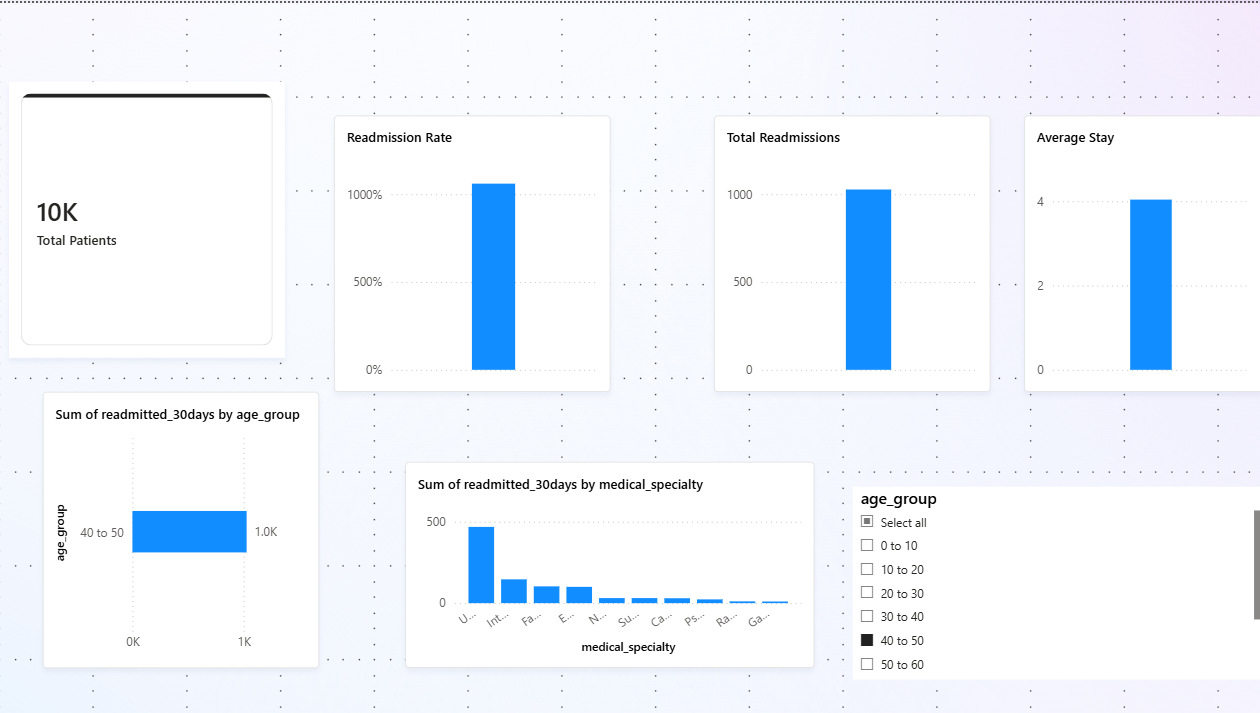

The page's visual inventory and layout, read from the dashboard file:
{"tool":"powerbi","page":{"name":"Page 1","canvas":[1280,720],"ordinal":0},"visuals":[{"type":"cardVisual","fields":{"Data":["patients_clean.Total Patients"]},"box":[9.6,79.6,279.9,279.9],"z":0},{"type":"clusteredColumnChart","fields":{"Y":["patients_clean.Readmission Rate"]},"box":[338.9,113.9,279.9,279.9],"z":1000},{"type":"clusteredColumnChart","fields":{"Y":["patients_clean.Total Readmissions"]},"box":[724.5,113.9,279.9,279.9],"z":2000},{"type":"clusteredColumnChart","fields":{"Y":["patients_clean.Average Stay"]},"box":[1037.4,113.9,242.9,279.9],"z":3000},{"type":"clusteredBarChart","fields":{"Category":["patients_clean.age_group"],"Y":["Sum(patients_clean.readmitted_30days)"]},"box":[43.9,393.8,279.9,279.9],"z":4000},{"type":"clusteredColumnChart","fields":{"Category":["patients_clean.medical_specialty"],"Y":["Sum(patients_clean.readmitted_30days)"]},"box":[411.7,465.2,414.4,208.6],"z":5000},{"type":"slicer","fields":{"Values":["patients_clean.age_group"]},"box":[864.5,489.9,414.4,194.9],"z":5001}]}

Visuals, with their boxes in screenshot pixels (x1, y1, x2, y2), scaled from the page's 1280x720 canvas onto the 1260x713 screenshot:
cardVisual - patients_clean.Total Patients: (left=9, top=79, right=285, bottom=356)
clusteredColumnChart - patients_clean.Readmission Rate: (left=334, top=113, right=609, bottom=390)
clusteredColumnChart - patients_clean.Total Readmissions: (left=713, top=113, right=989, bottom=390)
clusteredColumnChart - patients_clean.Average Stay: (left=1021, top=113, right=1259, bottom=390)
clusteredBarChart - patients_clean.age_group x Sum(patients_clean.readmitted_30days): (left=43, top=390, right=319, bottom=667)
clusteredColumnChart - patients_clean.medical_specialty x Sum(patients_clean.readmitted_30days): (left=405, top=461, right=813, bottom=667)
slicer - patients_clean.age_group: (left=851, top=485, right=1259, bottom=678)
